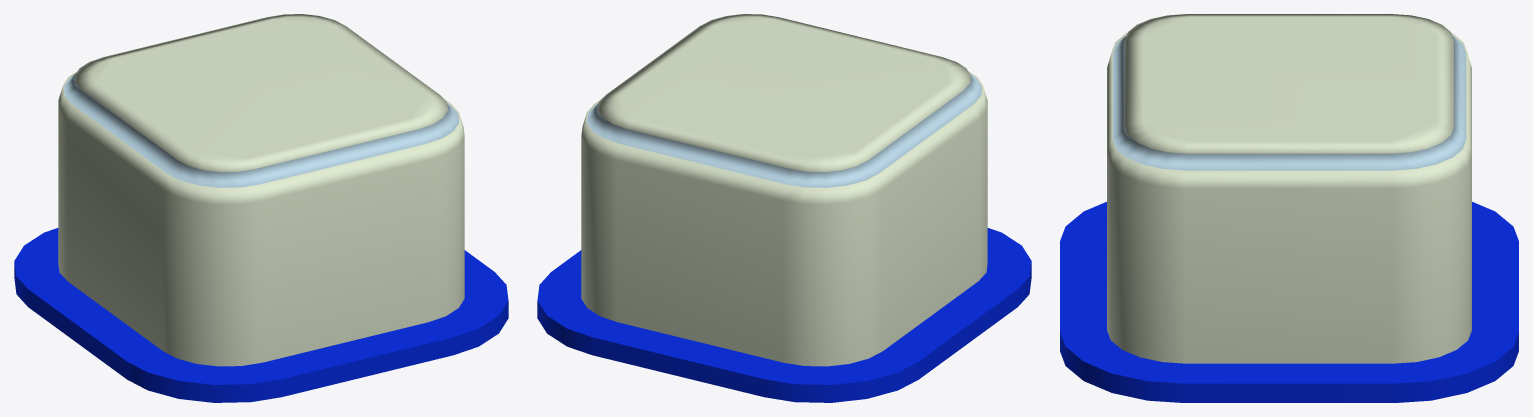
File: Wall_Island_Single.fbx
3 views of the same model, side by side, from view 1: azimuth 30°, elevation 25°; view 2: azimuth 150°, elevation 25°; view 3: azimuth 270°, elevation 25° (orthographic). The views are drawn at different scales.
Parts seen in each view (by area): view 1: Wall_Island_Single; view 2: Wall_Island_Single; view 3: Wall_Island_Single.
Boxes of the visible parts, x1,y1,x2,y2 form: Wall_Island_Single: [14, 14, 508, 402]; Wall_Island_Single: [537, 14, 1031, 402]; Wall_Island_Single: [1060, 14, 1518, 402].
Bounding box in the file's own units: 100 × 54.53 × 100.
